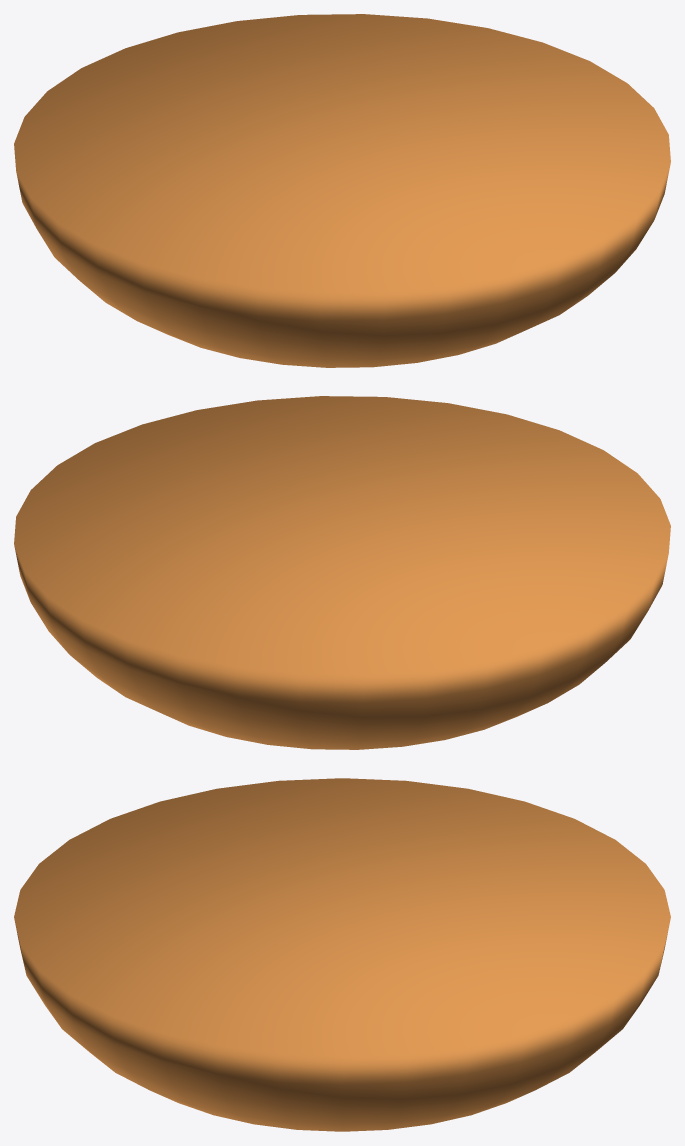
The model's file is burger_bottom.fbx.
3 views of the same model, one above another, from view 1: azimuth 30°, elevation 25°; view 2: azimuth 150°, elevation 25°; view 3: azimuth 270°, elevation 25° (orthographic).
Visible parts, largest first — view 1: Sphère.003; view 2: Sphère.003; view 3: Sphère.003.
Boxes of the visible parts, left/top/right/bottom form: Sphère.003: left=14, top=14, right=670, bottom=367; Sphère.003: left=14, top=396, right=670, bottom=749; Sphère.003: left=14, top=778, right=670, bottom=1131.
Bounding box in the file's own units: 391 × 108 × 391.
